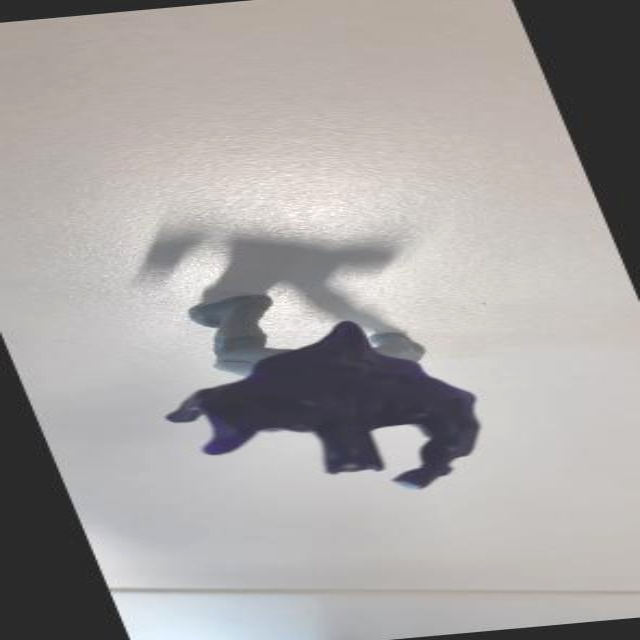Batman: (104, 278, 529, 511)
